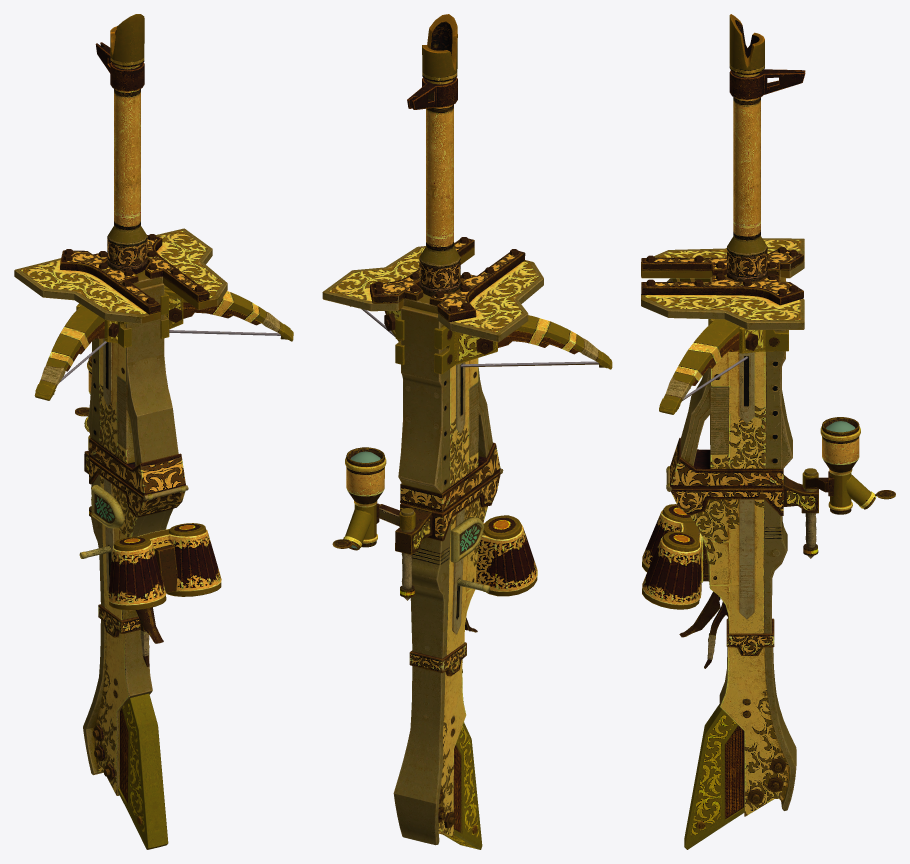
The model's file is bs_hbg004.obj.
3 renders of one model, left to right at view 1: azimuth 30°, elevation 25°; view 2: azimuth 150°, elevation 25°; view 3: azimuth 270°, elevation 25°, orthographic. The views are drawn at different scales.
Visible parts, largest first — view 1: bs_hbg004_000_LOD_1, bs_hbg004_001_LOD_1, bs_hbg004_006_LOD_1, bs_hbg004_005_LOD_1, bs_hbg004_009_LOD_1, bs_hbg004_004_LOD_1, bs_hbg004_003_LOD_1, bs_hbg004_008_LOD_1, bs_hbg004_002_LOD_1; view 2: bs_hbg004_000_LOD_1, bs_hbg004_001_LOD_1, bs_hbg004_006_LOD_1, bs_hbg004_005_LOD_1, bs_hbg004_007_LOD_1, bs_hbg004_009_LOD_1, bs_hbg004_004_LOD_1, bs_hbg004_002_LOD_1; view 3: bs_hbg004_000_LOD_1, bs_hbg004_001_LOD_1, bs_hbg004_006_LOD_1, bs_hbg004_005_LOD_1, bs_hbg004_009_LOD_1, bs_hbg004_007_LOD_1, bs_hbg004_003_LOD_1.
Boxes of the visible parts, x1,y1,x2,y2 form: bs_hbg004_000_LOD_1: (79, 450, 184, 849); bs_hbg004_001_LOD_1: (76, 270, 188, 500); bs_hbg004_006_LOD_1: (14, 228, 227, 323); bs_hbg004_005_LOD_1: (95, 14, 147, 273); bs_hbg004_009_LOD_1: (108, 523, 221, 610); bs_hbg004_004_LOD_1: (34, 305, 104, 400); bs_hbg004_003_LOD_1: (164, 285, 293, 341); bs_hbg004_008_LOD_1: (153, 542, 177, 593); bs_hbg004_002_LOD_1: (59, 330, 280, 382); bs_hbg004_000_LOD_1: (393, 472, 500, 849); bs_hbg004_001_LOD_1: (384, 293, 503, 513); bs_hbg004_006_LOD_1: (322, 237, 543, 342); bs_hbg004_005_LOD_1: (407, 14, 460, 295); bs_hbg004_007_LOD_1: (332, 447, 415, 550); bs_hbg004_009_LOD_1: (475, 515, 537, 596); bs_hbg004_004_LOD_1: (498, 315, 612, 369); bs_hbg004_002_LOD_1: (361, 309, 598, 367); bs_hbg004_000_LOD_1: (671, 474, 818, 849); bs_hbg004_001_LOD_1: (666, 270, 792, 491); bs_hbg004_006_LOD_1: (641, 238, 804, 329); bs_hbg004_005_LOD_1: (727, 14, 805, 281); bs_hbg004_009_LOD_1: (642, 504, 701, 609); bs_hbg004_007_LOD_1: (802, 417, 895, 514); bs_hbg004_003_LOD_1: (659, 319, 740, 414).
Bounding box in the file's own units: 78.46 × 237 × 65.9.
